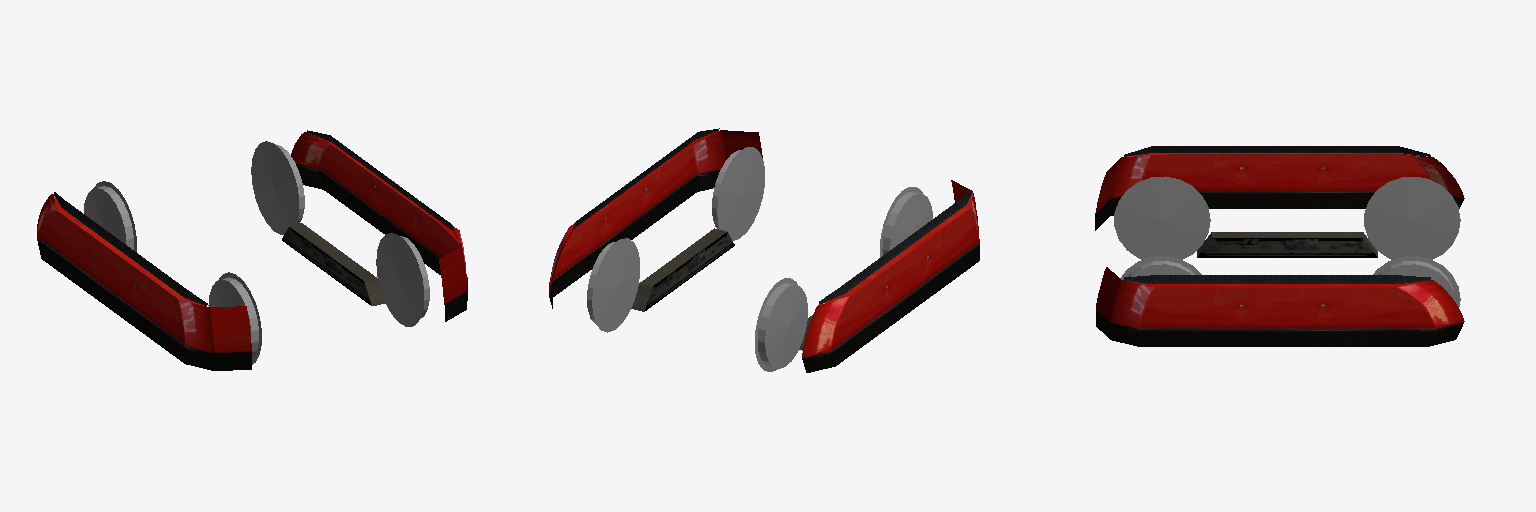
The picture shows the model from 3 angles: view 1: azimuth 30°, elevation 25°; view 2: azimuth 150°, elevation 25°; view 3: azimuth 270°, elevation 25°; orthographic projection.
Parts seen in each view (by area): view 1: BOG; view 2: BOG; view 3: BOG.
Part boxes in pixels (x1,y1,x2,y2): BOG: (37, 130, 467, 370); BOG: (549, 128, 979, 372); BOG: (1095, 146, 1464, 346).
Bounding box in the file's own units: 2.49 × 0.7674 × 2.82.
Materials: 2 (1 with a texture image).